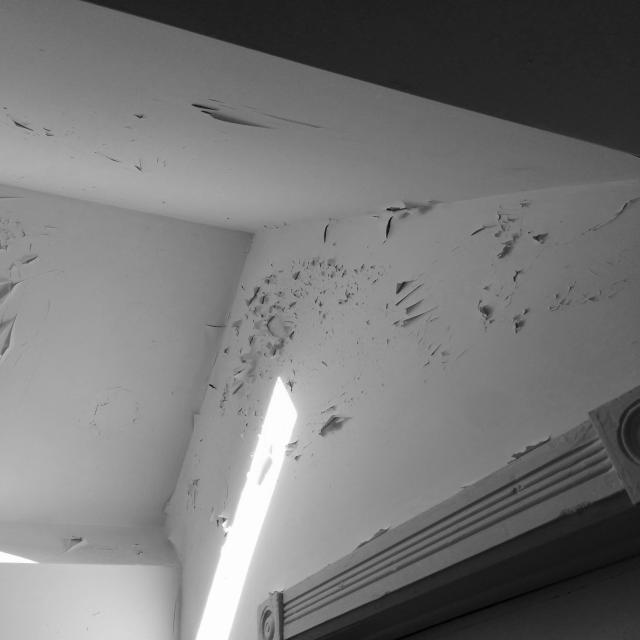peeling paint: (0, 90, 640, 578)
